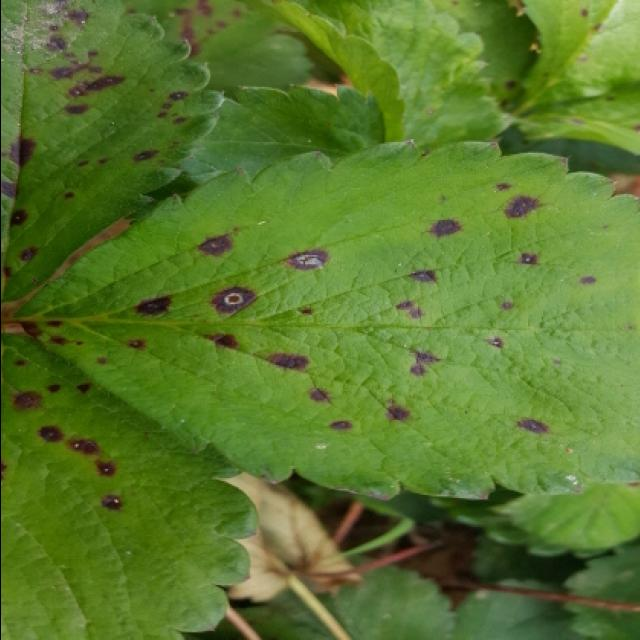Leaf Spot: (9, 135, 640, 502), (2, 328, 258, 640), (2, 2, 223, 303), (129, 2, 314, 101), (515, 2, 640, 136), (432, 2, 539, 114)
